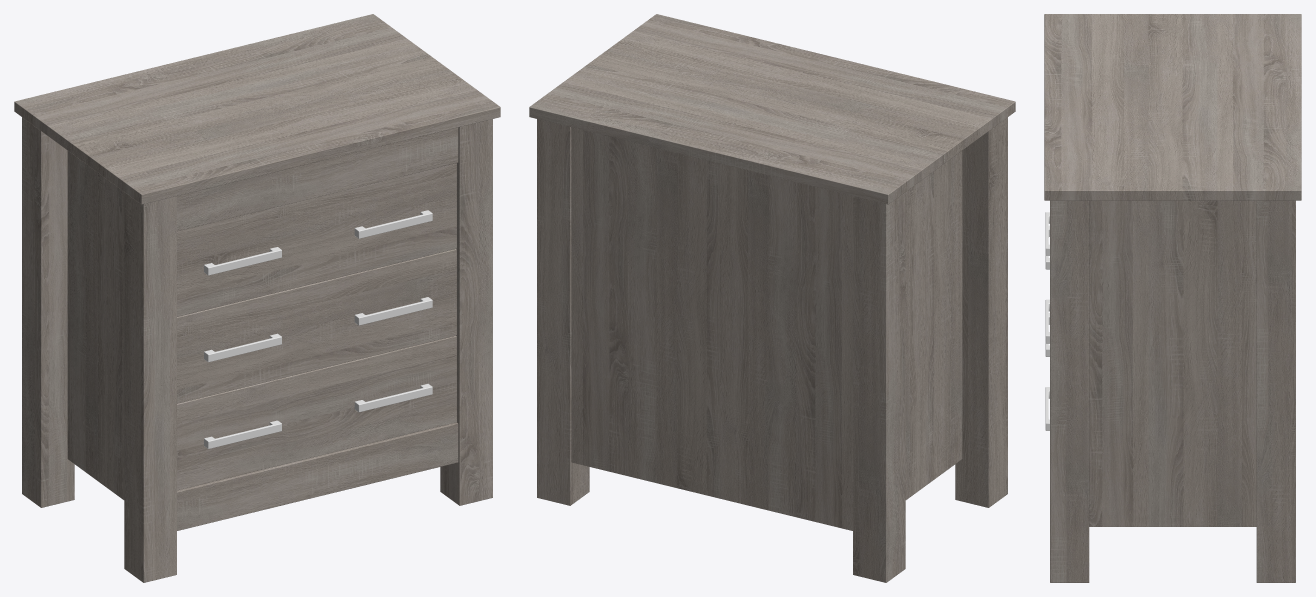
The model's file is Lovencare_Bordeaux_Chest_Ash_Static_Ash_c.glb.
3 views of the same model, side by side, from view 1: azimuth 30°, elevation 25°; view 2: azimuth 150°, elevation 25°; view 3: azimuth 270°, elevation 25° (orthographic).
Visible parts, largest first — view 1: Wood, Handles; view 2: Wood; view 3: Wood, Handles.
Part boxes in pixels (bbox=[...]): Wood: bbox=[14, 14, 500, 582]; Handles: bbox=[204, 210, 432, 448]; Wood: bbox=[529, 14, 1015, 582]; Wood: bbox=[1044, 14, 1301, 582]; Handles: bbox=[1045, 212, 1049, 430].
Bounding box in the file's own units: 0.96 × 1 × 0.59.
2 materials, 1 textured.
